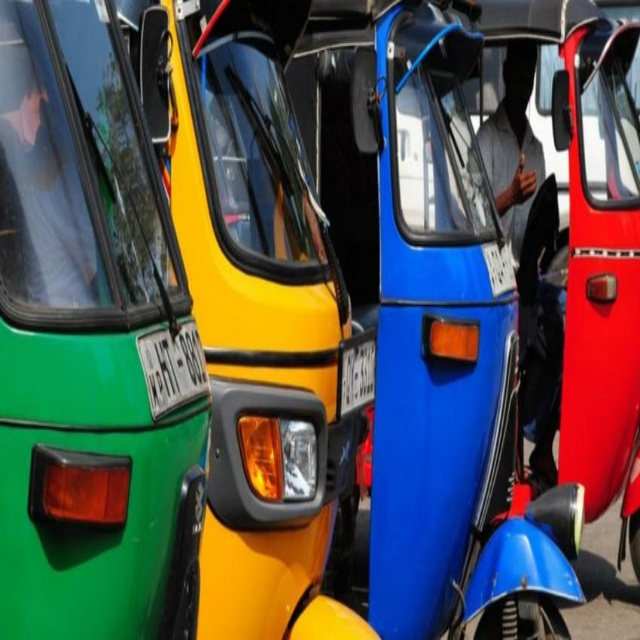Motorcycle: (286, 1, 585, 640), (114, 1, 379, 640), (1, 1, 212, 640), (472, 1, 640, 582)
